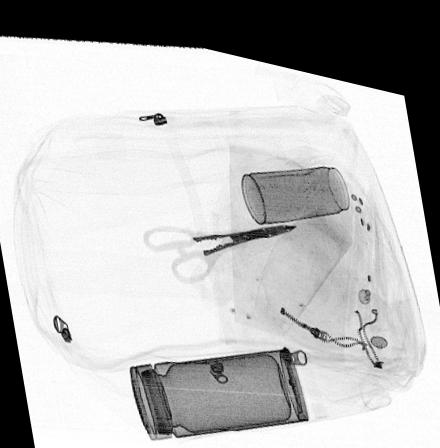Scissors: (142, 210, 298, 276)
